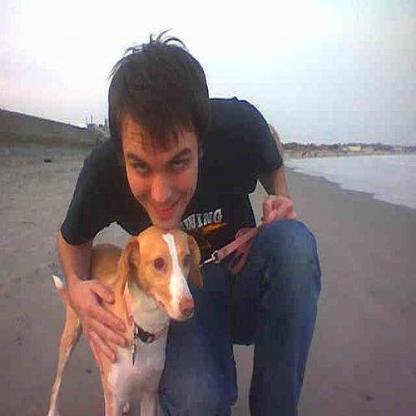dog: (56, 223, 203, 415)
